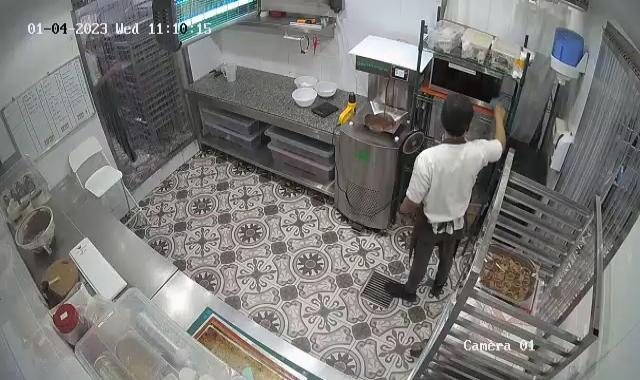no_hairnet: (439, 90, 476, 136)
